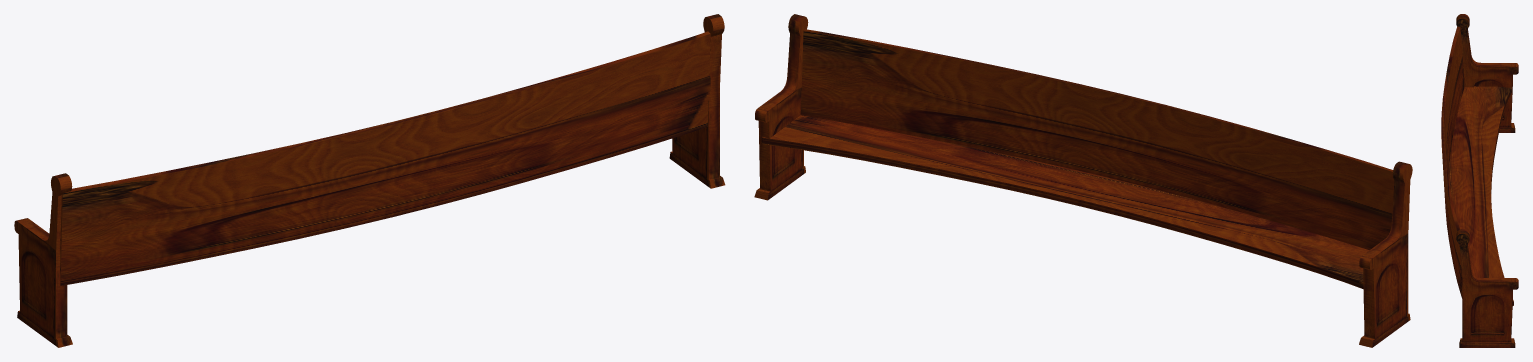
Rendered from PewLong.FBX.
3 renders of one model, left to right at view 1: azimuth 30°, elevation 25°; view 2: azimuth 150°, elevation 25°; view 3: azimuth 270°, elevation 25°, orthographic. The views are drawn at different scales.
Parts seen in each view (by area): view 1: SEAT, PewSide001, PewSide; view 2: SEAT, PewSide001, PewSide; view 3: SEAT, PewSide, PewSide001.
Part boxes in pixels (bbox=[...]): SEAT: bbox=[60, 31, 710, 285]; PewSide001: bbox=[14, 173, 72, 347]; PewSide: bbox=[669, 14, 725, 188]; SEAT: bbox=[761, 29, 1394, 289]; PewSide001: bbox=[1359, 161, 1412, 347]; PewSide: bbox=[754, 14, 808, 200]; SEAT: bbox=[1441, 27, 1513, 305]; PewSide: bbox=[1456, 229, 1518, 347]; PewSide001: bbox=[1456, 14, 1518, 132].
Size of the model in its own units: 154 by 37.3 by 22.97.
1 material, 1 textured.
